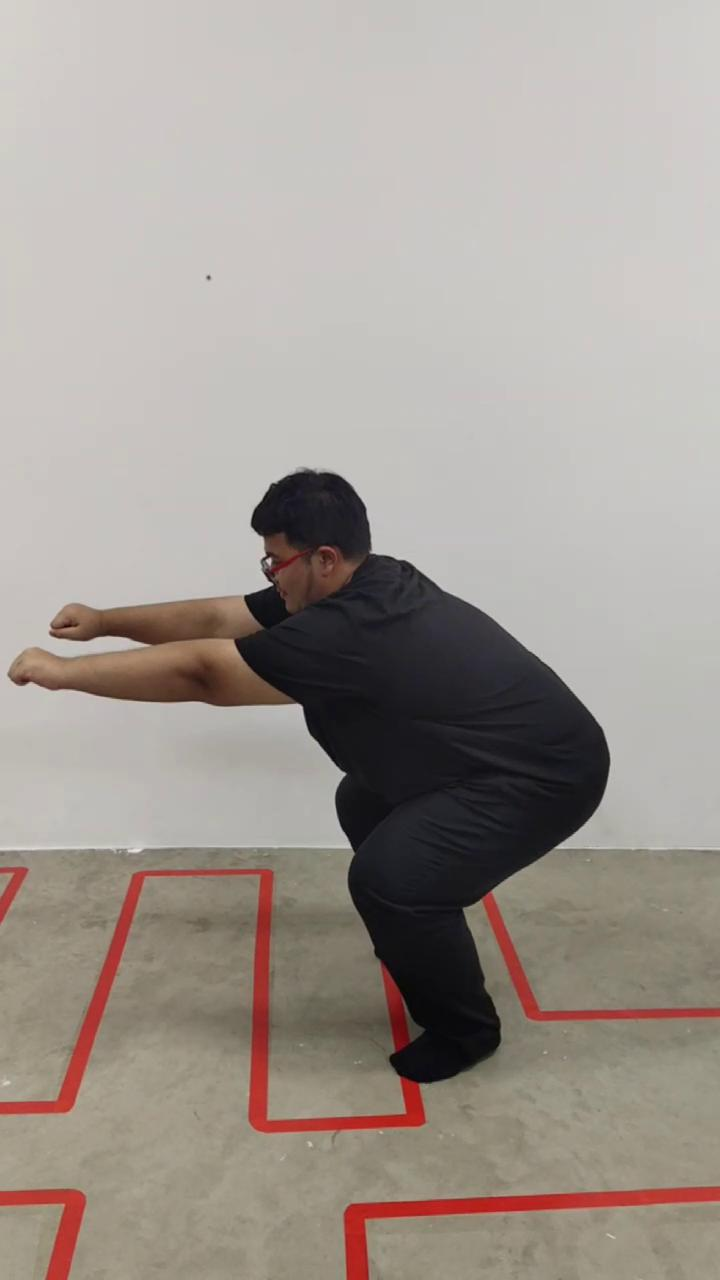squat down: (17, 467, 611, 1083)
